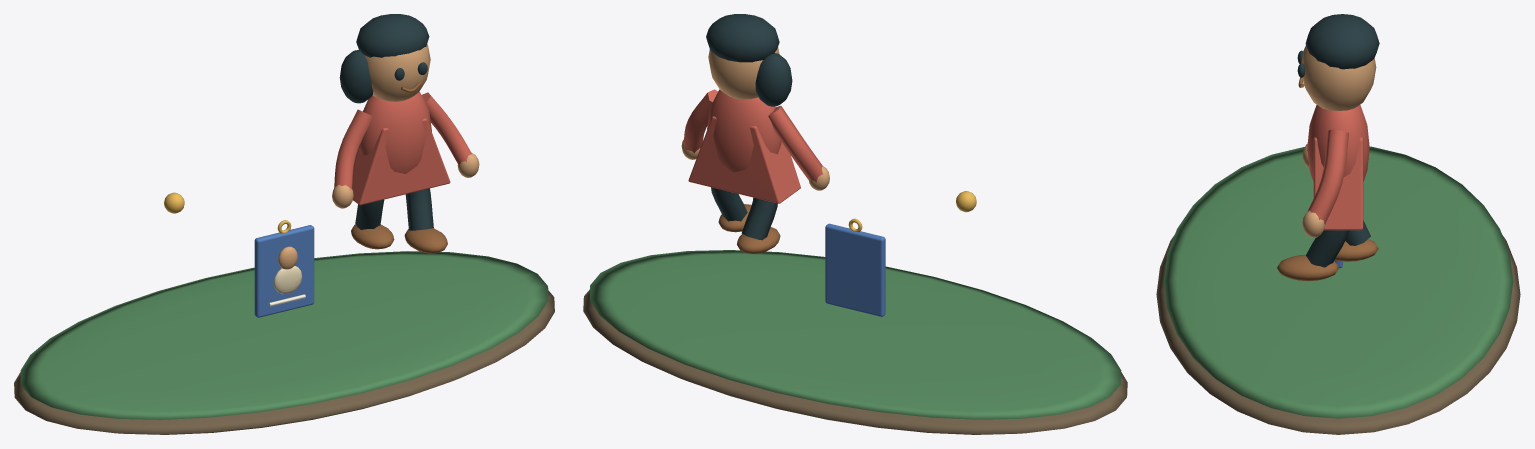
The model's file is complete-first-young-lady.glb.
The picture shows the model from 3 angles, left to right: view 1: azimuth 30°, elevation 25°; view 2: azimuth 150°, elevation 25°; view 3: azimuth 270°, elevation 25°; orthographic projection. The views are drawn at different scales.
Parts seen in each view (by area): view 1: complete-first-young-lady_surface_01, complete-first-young-lady_surface_06, complete-first-young-lady_surface_00, complete-first-young-lady_surface_04, complete-first-young-lady_surface_07, complete-first-young-lady_surface_03, complete-first-young-lady_surface_05, complete-first-young-lady_surface_08; view 2: complete-first-young-lady_surface_01, complete-first-young-lady_surface_06, complete-first-young-lady_surface_00, complete-first-young-lady_surface_04, complete-first-young-lady_surface_07, complete-first-young-lady_surface_03, complete-first-young-lady_surface_05; view 3: complete-first-young-lady_surface_01, complete-first-young-lady_surface_00, complete-first-young-lady_surface_06, complete-first-young-lady_surface_04, complete-first-young-lady_surface_03, complete-first-young-lady_surface_05.
Boxes of the visible parts, left/top/right/bottom form: complete-first-young-lady_surface_01: left=20, top=251, right=548, bottom=419; complete-first-young-lady_surface_06: left=334, top=91, right=471, bottom=205; complete-first-young-lady_surface_00: left=14, top=290, right=554, bottom=434; complete-first-young-lady_surface_04: left=339, top=14, right=433, bottom=230; complete-first-young-lady_surface_07: left=254, top=225, right=314, bottom=317; complete-first-young-lady_surface_03: left=278, top=44, right=479, bottom=269; complete-first-young-lady_surface_05: left=351, top=82, right=447, bottom=253; complete-first-young-lady_surface_08: left=273, top=266, right=302, bottom=294; complete-first-young-lady_surface_01: left=589, top=250, right=1121, bottom=419; complete-first-young-lady_surface_06: left=683, top=89, right=822, bottom=203; complete-first-young-lady_surface_00: left=583, top=289, right=1127, bottom=434; complete-first-young-lady_surface_04: left=706, top=14, right=792, bottom=240; complete-first-young-lady_surface_07: left=825, top=223, right=885, bottom=316; complete-first-young-lady_surface_03: left=681, top=47, right=829, bottom=190; complete-first-young-lady_surface_05: left=718, top=204, right=780, bottom=253; complete-first-young-lady_surface_01: left=1163, top=146, right=1513, bottom=418; complete-first-young-lady_surface_00: left=1156, top=235, right=1520, bottom=434; complete-first-young-lady_surface_06: left=1307, top=105, right=1369, bottom=230; complete-first-young-lady_surface_04: left=1297, top=14, right=1379, bottom=267; complete-first-young-lady_surface_03: left=1301, top=45, right=1376, bottom=237; complete-first-young-lady_surface_05: left=1277, top=77, right=1378, bottom=280.
Size of the model in its own units: 4.56 by 2.67 by 2.5.
